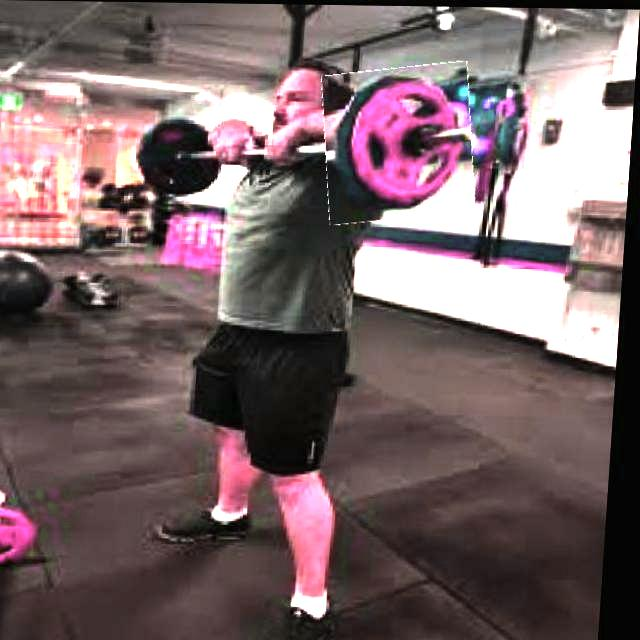barbell: (320, 63, 482, 222)
